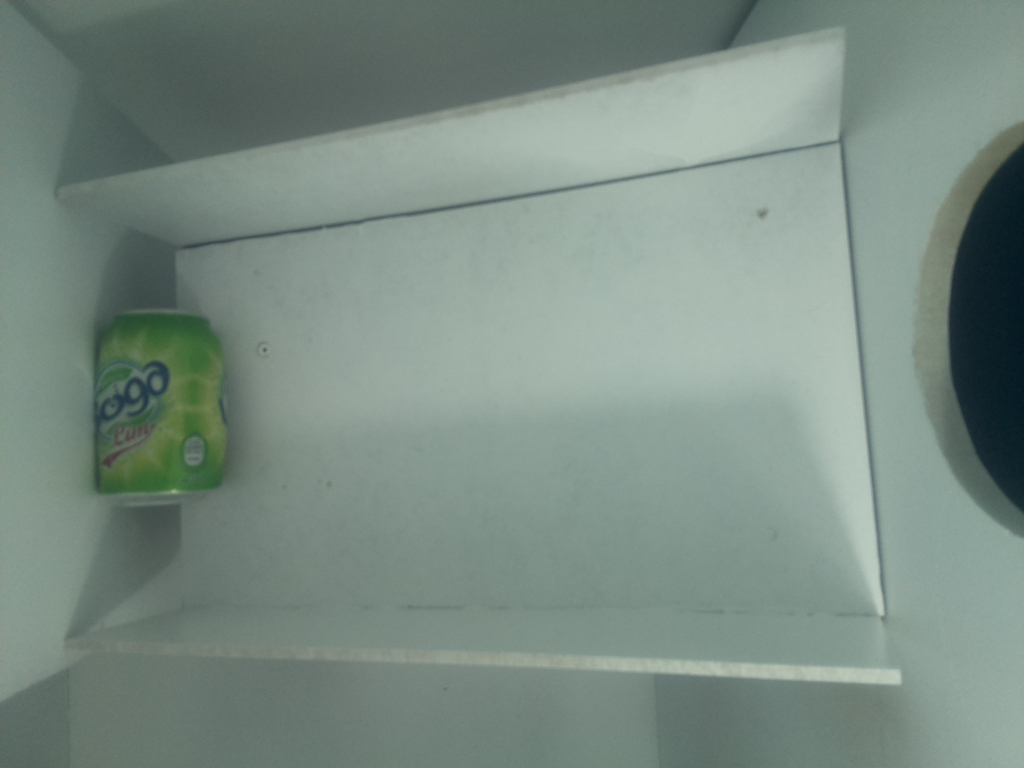kaleng: (88, 309, 231, 502)
